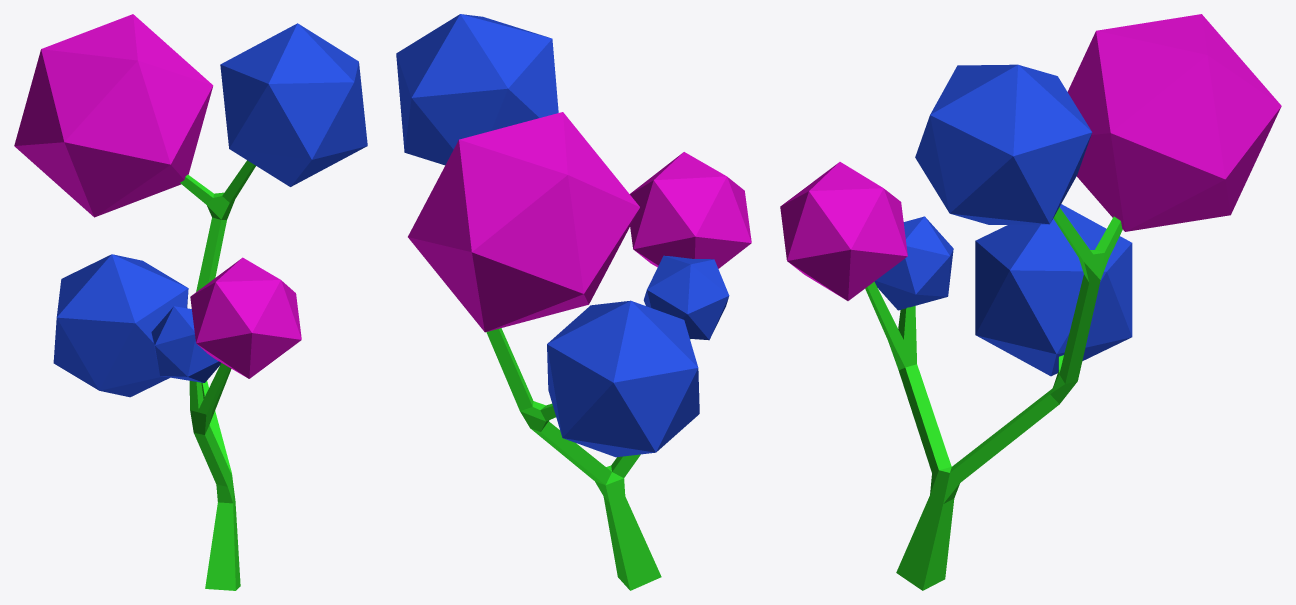
The model's file is Tree1.fbx.
The picture shows the model from 3 angles, left to right: view 1: azimuth 30°, elevation 25°; view 2: azimuth 150°, elevation 25°; view 3: azimuth 270°, elevation 25°; orthographic projection. The views are drawn at different scales.
Visible parts, largest first — view 1: Tree1_LOD0; view 2: Tree1_LOD0; view 3: Tree1_LOD0.
Boxes of the visible parts, box(x1,y1,x2,y2) form: Tree1_LOD0: box(14, 14, 367, 590); Tree1_LOD0: box(396, 14, 751, 590); Tree1_LOD0: box(780, 14, 1281, 590).
Size of what is drawn, in the model's own units: 241 by 409 by 320.
